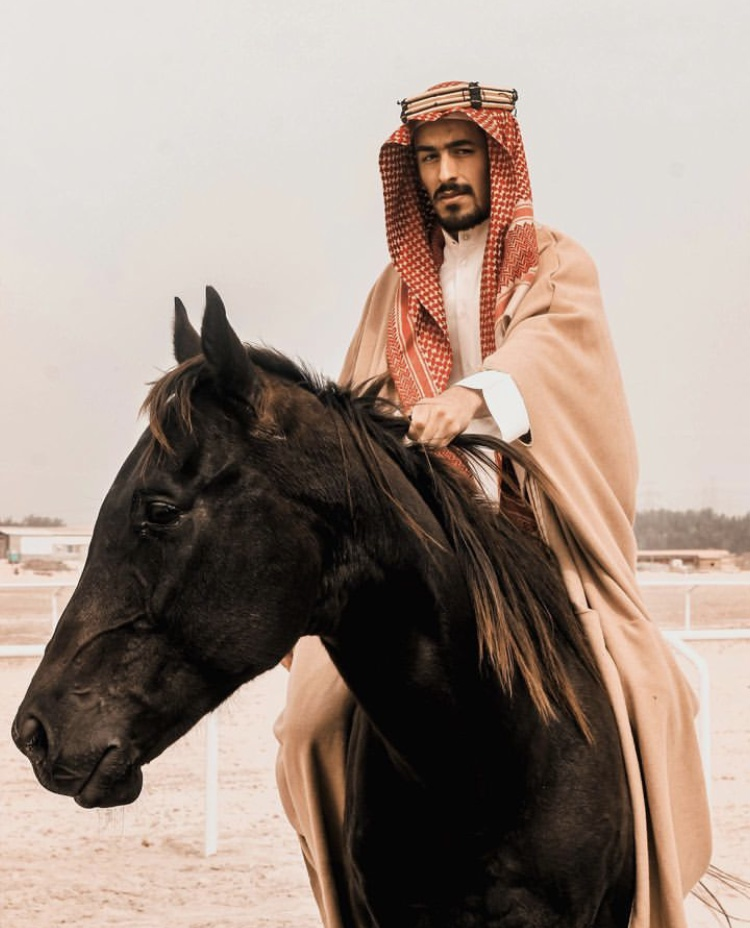Saudi_Founding_Day: (264, 76, 716, 928)
